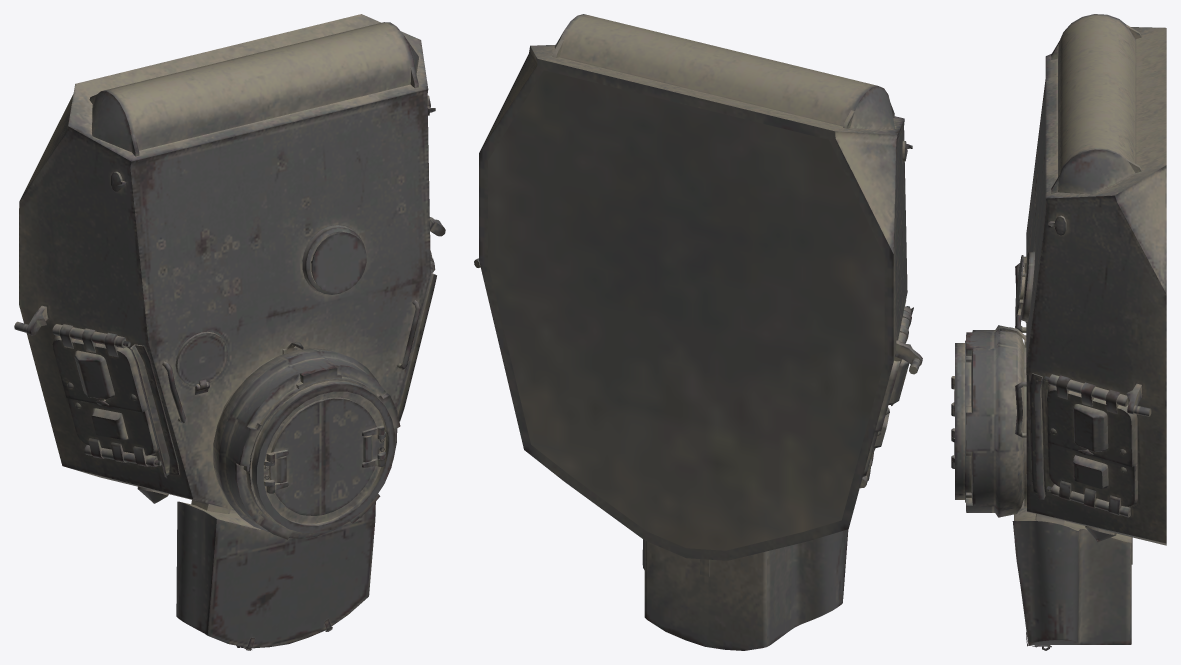
File: Turret_02.glb
The picture shows the model from 3 angles, left to right: view 1: azimuth 30°, elevation 25°; view 2: azimuth 150°, elevation 25°; view 3: azimuth 270°, elevation 25°; orthographic projection. The views are drawn at different scales.
Visible parts, largest first — view 1: set_0_group_0; view 2: set_0_group_0; view 3: set_0_group_0.
Boxes of the visible parts, x1=… form: set_0_group_0: x1=14, y1=14, x2=445, y2=650; set_0_group_0: x1=474, y1=14, x2=922, y2=650; set_0_group_0: x1=951, y1=14, x2=1166, y2=650.
Size of the model in its own units: 1.99 by 2.49 by 0.8863.
Materials: 1 (1 with a texture image).
